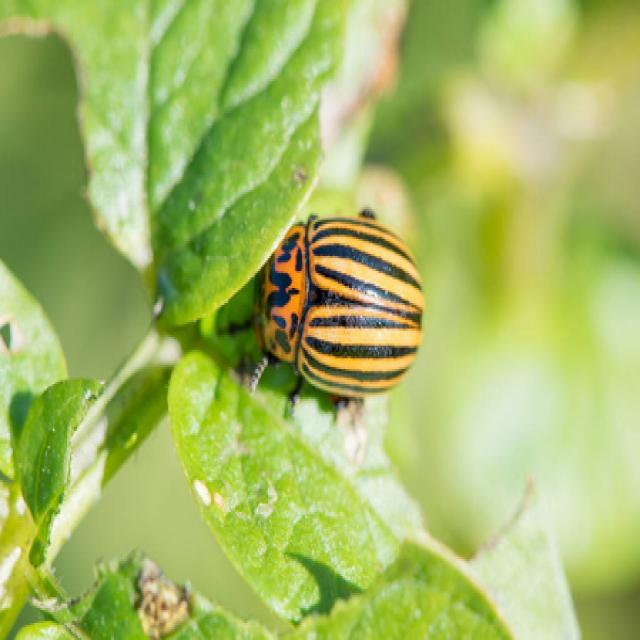ShuCaiHuaBanChong-Grown-: (237, 215, 461, 412)
